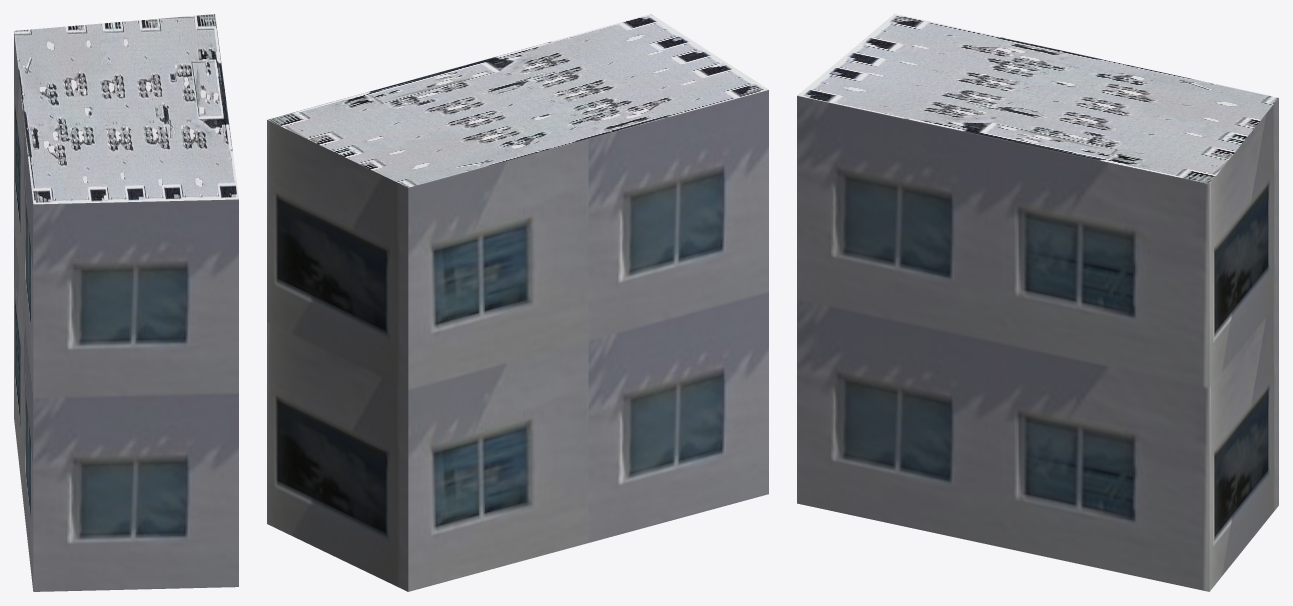
Rendered from ResTex__2538.fbx.
3 renders of one model, left to right at view 1: azimuth 30°, elevation 25°; view 2: azimuth 150°, elevation 25°; view 3: azimuth 270°, elevation 25°, orthographic. The views are drawn at different scales.
Visible parts, largest first — view 1: CityEngineMaterial_10_m, CityEngineMaterial_m; view 2: CityEngineMaterial_10_m, CityEngineMaterial_m; view 3: CityEngineMaterial_10_m, CityEngineMaterial_m.
Part boxes in pixels (box(x1,y1,x2,y2)): CityEngineMaterial_10_m: box(14, 32, 238, 591); CityEngineMaterial_m: box(14, 14, 238, 204); CityEngineMaterial_10_m: box(267, 90, 768, 591); CityEngineMaterial_m: box(267, 14, 768, 187); CityEngineMaterial_10_m: box(797, 96, 1278, 591); CityEngineMaterial_m: box(797, 14, 1278, 183).
Size of the model in its own units: 5.37 by 6 by 6.42.
Materials: 2 (2 with a texture image).
